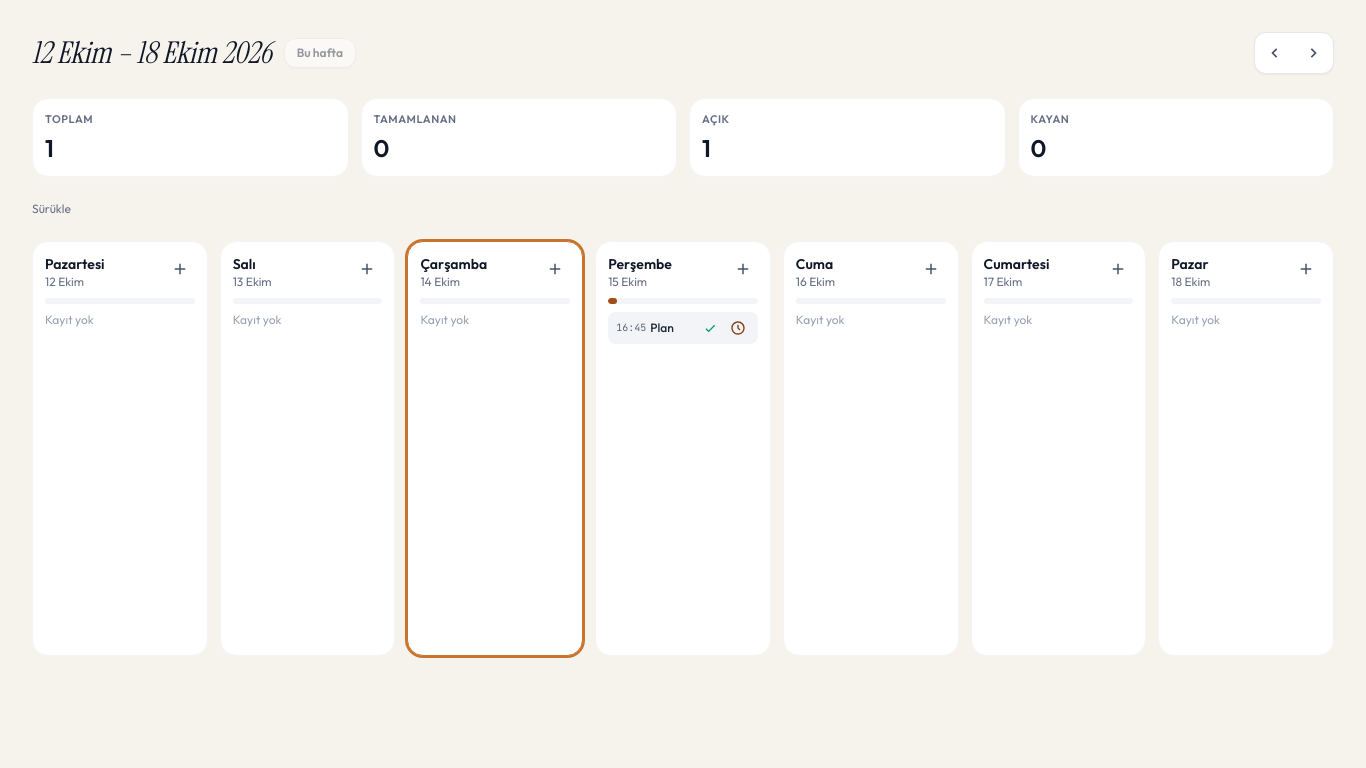
Scenario: WeekPage › opens ScheduleModal for a non-recurring item with its time prefilled
Click the button named "Zamanla: Plan": (738, 328) [726,316,750,340]
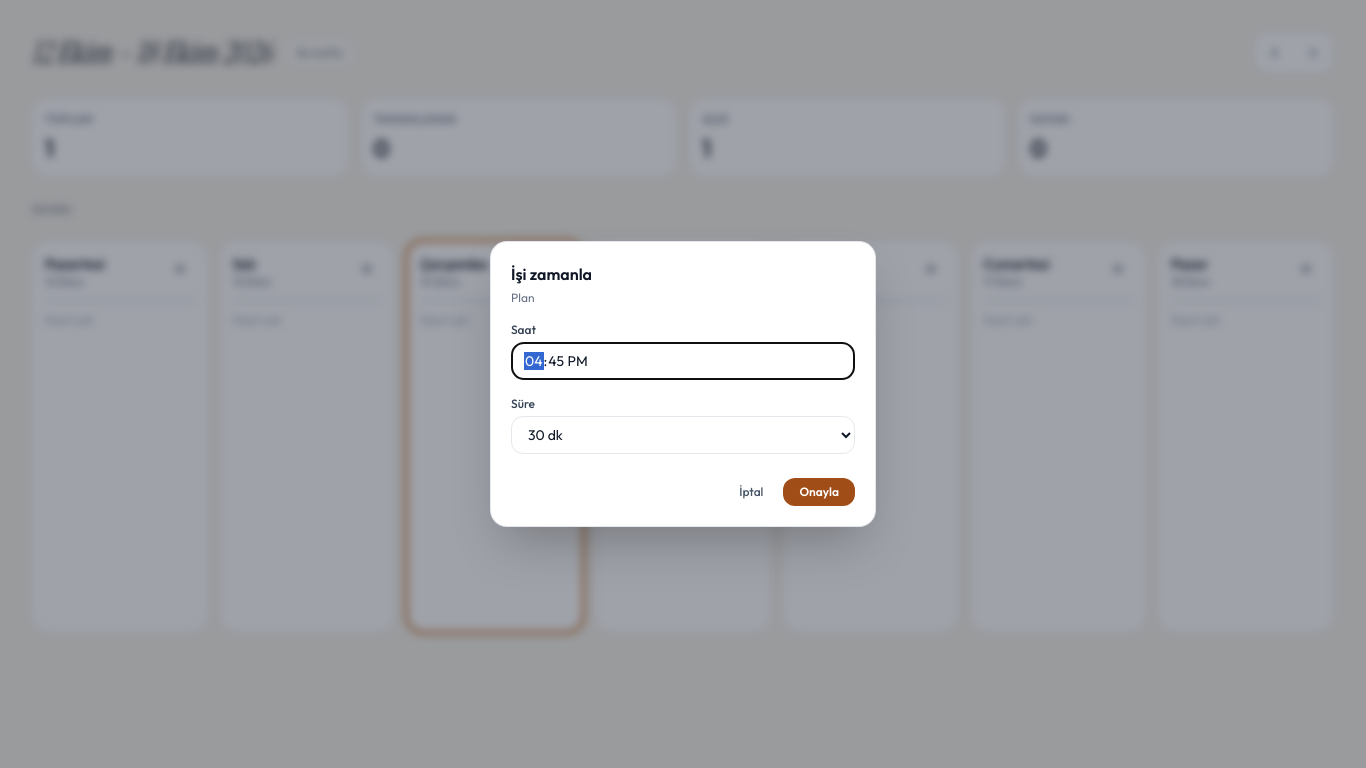
Now the time field labelled "Saat" holds "16:45", box [511,342,855,380]
